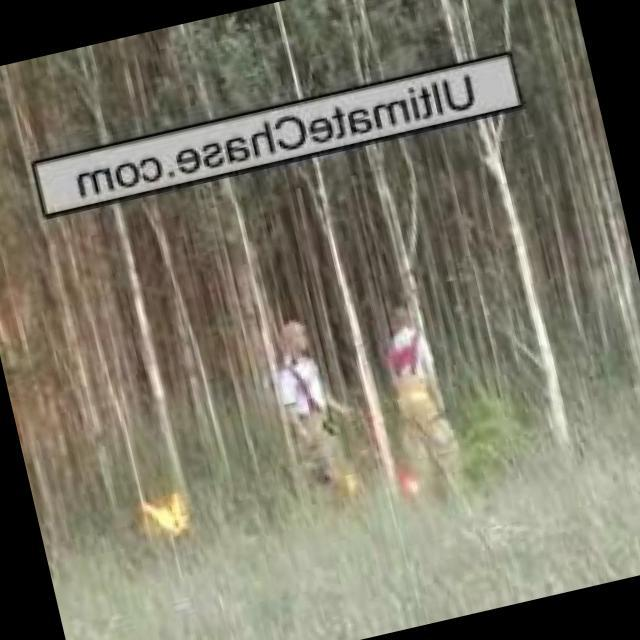Fire: (141, 493, 194, 546), (399, 472, 423, 502), (341, 473, 367, 499)
